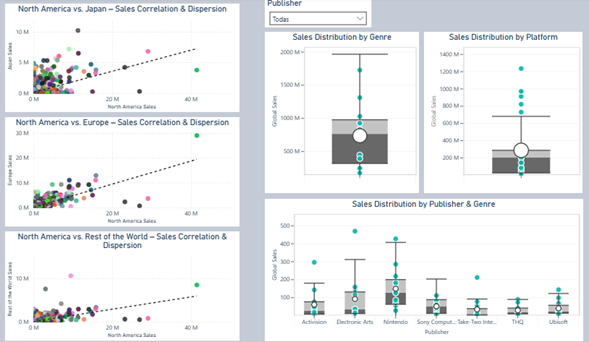

The page's visual inventory and layout, read from the dashboard file:
{"tool":"powerbi","page":{"name":"Variability & Outliers","canvas":[1280,720],"ordinal":4},"visuals":[{"type":"BoxandWhiskerByMAQ1823AD39DT234AB532063E128AX","title":"Sales Distribution by Genre","fields":{"measure":["Sum(video_game_sales vgsales.global_sales)"],"category":["video_game_sales vgsales.genre"]},"box":[585.6,70.2,318.2,331.6],"z":0},{"type":"scatterChart","title":"North America vs. Europe – Sales Correlation & Dispersion","fields":{"X":["Max(video_game_sales vgsales.north_america_sales)"],"Series":["video_game_sales vgsales.name"],"Category":["video_game_sales vgsales.global_sales"],"Y":["Max(video_game_sales vgsales.europe_sales)"]},"box":[49.3,246.5,484,225.6],"z":1000},{"type":"BoxandWhiskerByMAQ1823AD39DT234AB532063E128AX","title":"Sales Distribution by Platform","fields":{"category":["video_game_sales vgsales.platform"],"measure":["Sum(video_game_sales vgsales.global_sales)"]},"box":[914.2,70.2,327.1,331.6],"z":2000},{"type":"scatterChart","title":"North America vs. Japan – Sales Correlation & Dispersion","fields":{"X":["Max(video_game_sales vgsales.north_america_sales)"],"Series":["video_game_sales vgsales.name"],"Category":["video_game_sales vgsales.global_sales"],"Y":["Max(video_game_sales vgsales.japan_sales)"]},"box":[49.3,12,484,224.1],"z":3000},{"type":"scatterChart","title":"North America vs. Rest of the World – Sales Correlation & Dispersion","fields":{"Category":["video_game_sales vgsales.global_sales"],"X":["Sum(video_game_sales vgsales.north_america_sales)"],"Y":["Sum(video_game_sales vgsales.other_sales)"],"Series":["video_game_sales vgsales.name"]},"box":[49.3,482.5,484,225.6],"z":4000},{"type":"slicer","title":"Publisher","fields":{"Values":["video_game_sales vgsales.publisher"]},"box":[585.6,0,219.6,61.2],"z":5000},{"type":"BoxandWhiskerByMAQ1823AD39DT234AB532063E128AX","title":"Sales Distribution by Publisher & Genre","fields":{"categoryGroup":["video_game_sales vgsales.publisher"],"category":["video_game_sales vgsales.genre"],"measure":["Sum(video_game_sales vgsales.global_sales)"]},"box":[585.6,415.3,655.8,292.8],"z":6000}]}

Visuals, with their boxes on the page's 1280x720 design canvas (x1, y1, x2, y2). These are canvas units, not pixel positions in the 589x342 screenshot, which may show the page scaled, cropped or inside an application window:
"Sales Distribution by Genre" BoxandWhiskerByMAQ1823AD39DT234AB532063E128AX: <region>586, 70, 904, 402</region>
"North America vs. Europe – Sales Correlation & Dispersion" scatterChart: <region>49, 246, 533, 472</region>
"Sales Distribution by Platform" BoxandWhiskerByMAQ1823AD39DT234AB532063E128AX: <region>914, 70, 1241, 402</region>
"North America vs. Japan – Sales Correlation & Dispersion" scatterChart: <region>49, 12, 533, 236</region>
"North America vs. Rest of the World – Sales Correlation & Dispersion" scatterChart: <region>49, 482, 533, 708</region>
"Publisher" slicer: <region>586, 0, 805, 61</region>
"Sales Distribution by Publisher & Genre" BoxandWhiskerByMAQ1823AD39DT234AB532063E128AX: <region>586, 415, 1241, 708</region>
